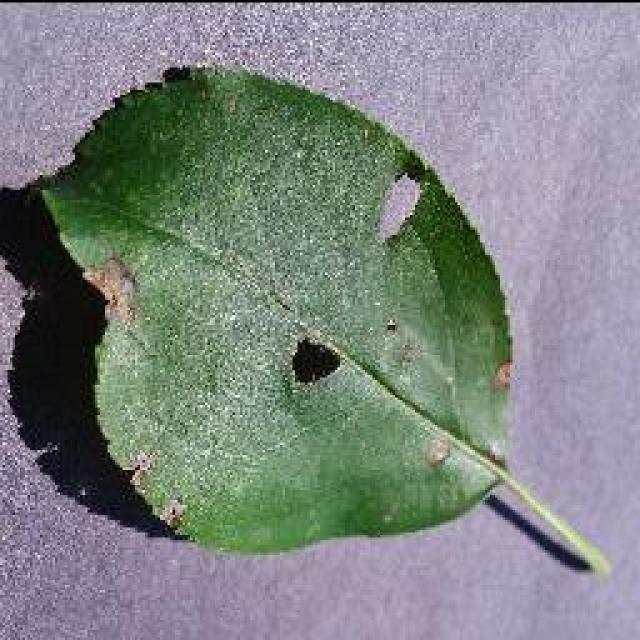Black_rot: (28, 60, 610, 578)
